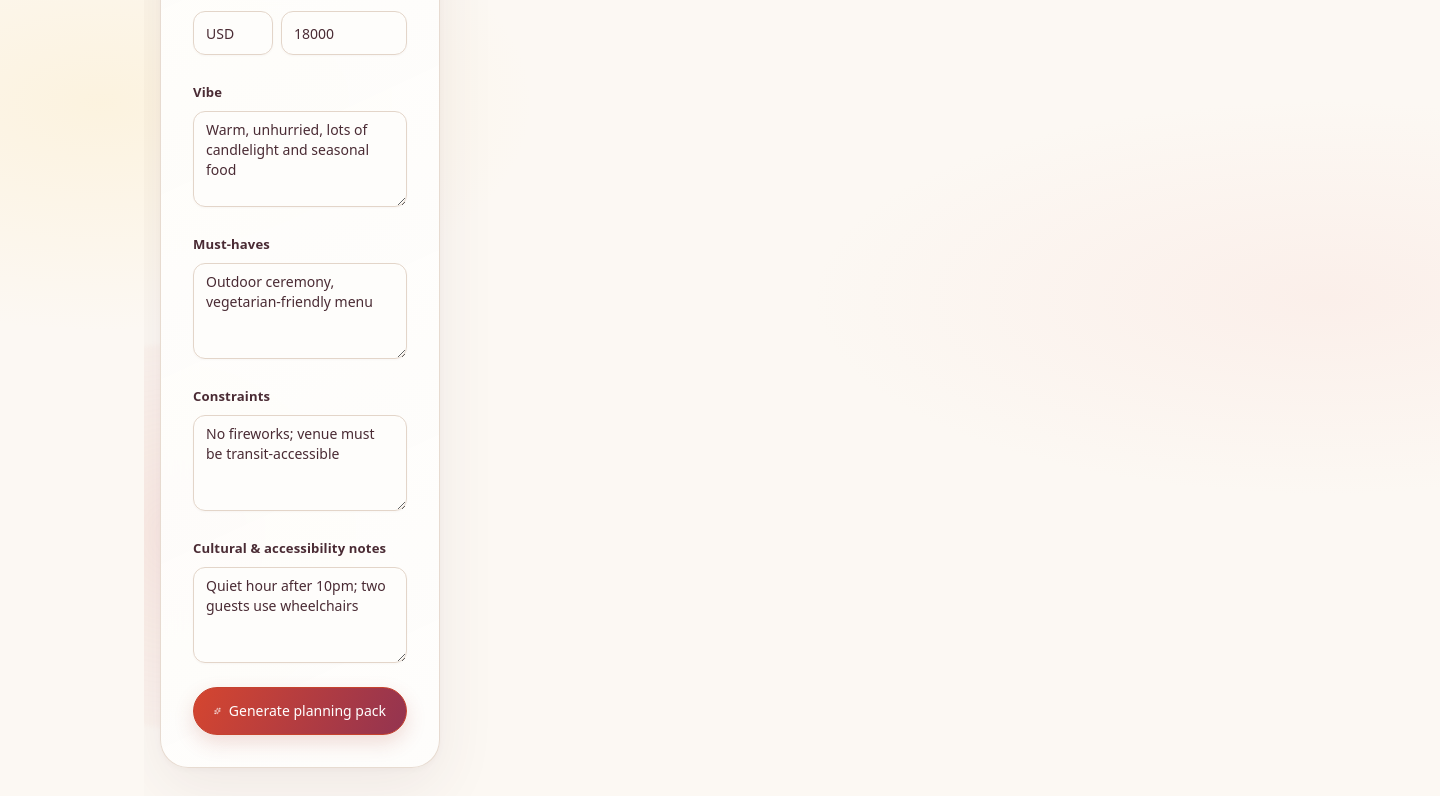
Test case: Studio planner › shows API errors accessibly without losing the starter plan
(page scrolled)
Click the button "Generate planning pack" at [300, 711], box [193, 687, 407, 735]
(page scrolled)
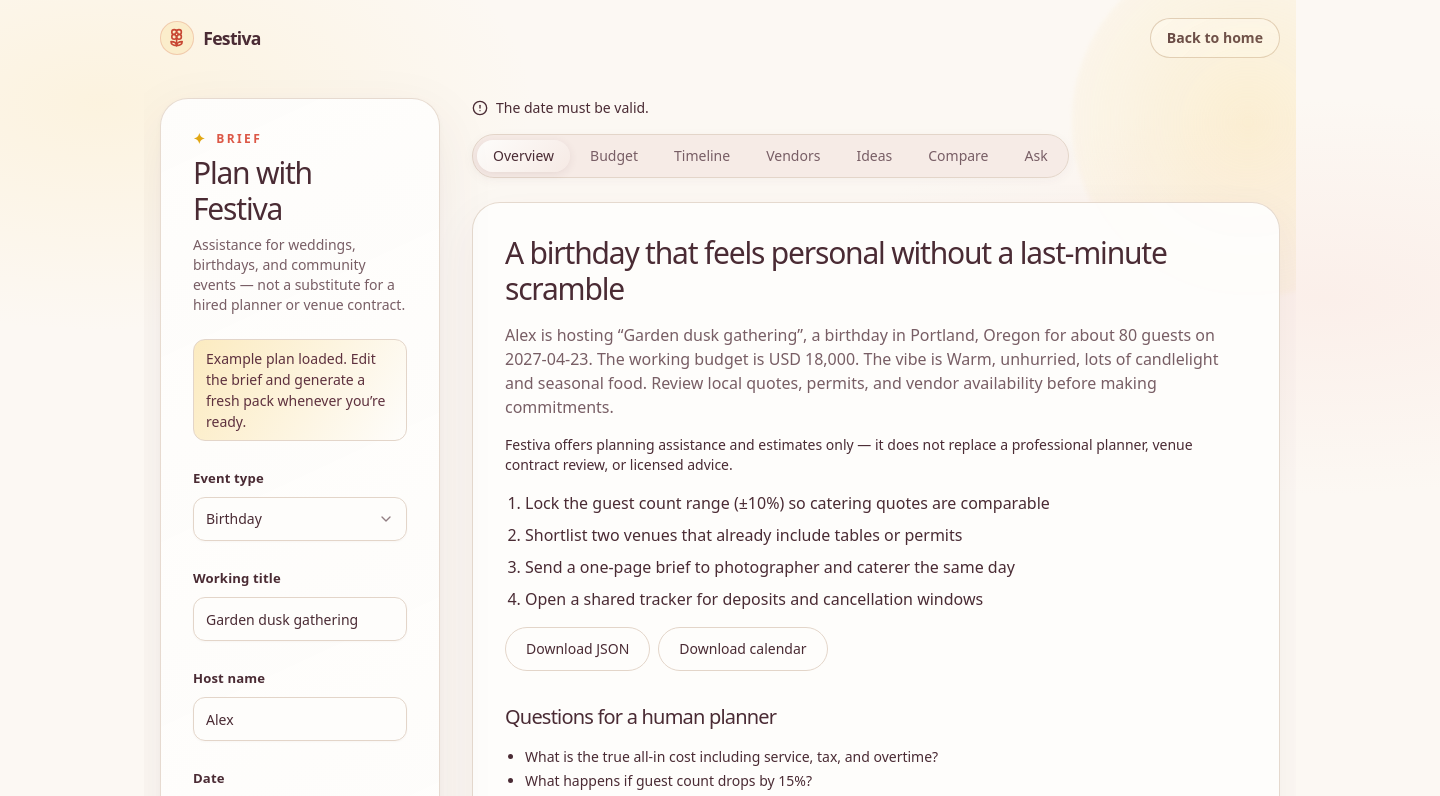
Expected: the heading "A birthday that feels personal" is shown, [505, 235, 1247, 307]
Expected: the message "The date must be valid." is shown, [472, 98, 649, 117]
